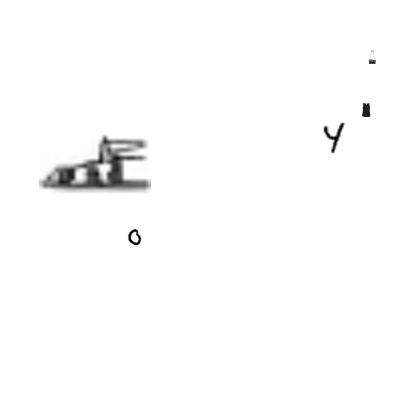0: (123, 226, 145, 248)
4: (312, 114, 354, 156)
Bag: (365, 50, 379, 64)
Sandal: (39, 108, 151, 220)
Shirt: (359, 103, 373, 117)
